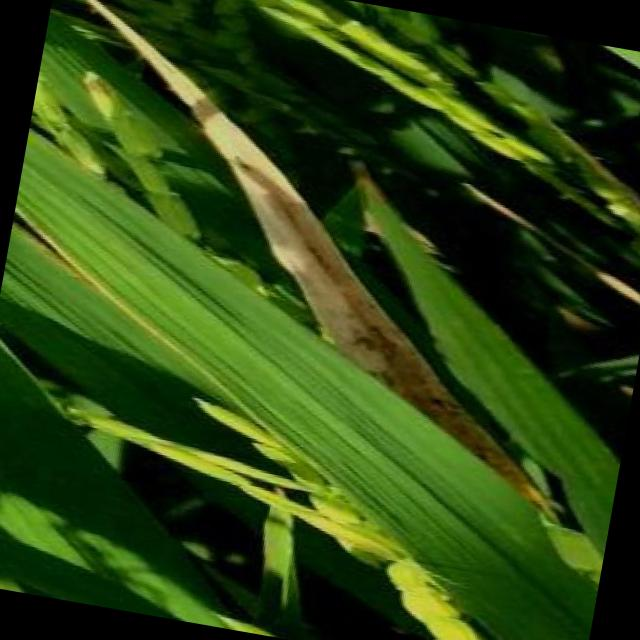Rice_Bacterial_Blight: (0, 190, 205, 354)
